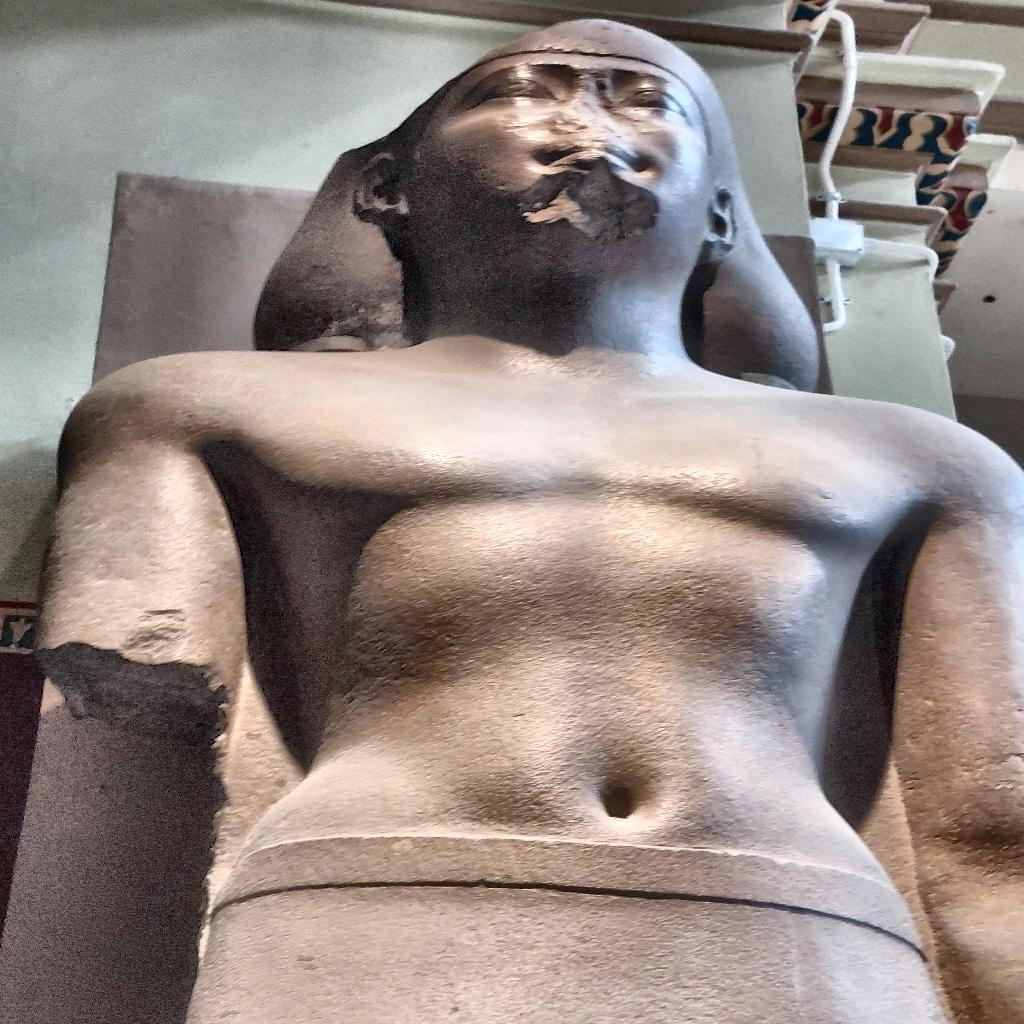Colossal Statue of Hormoheb: (1, 8, 1024, 1024)
